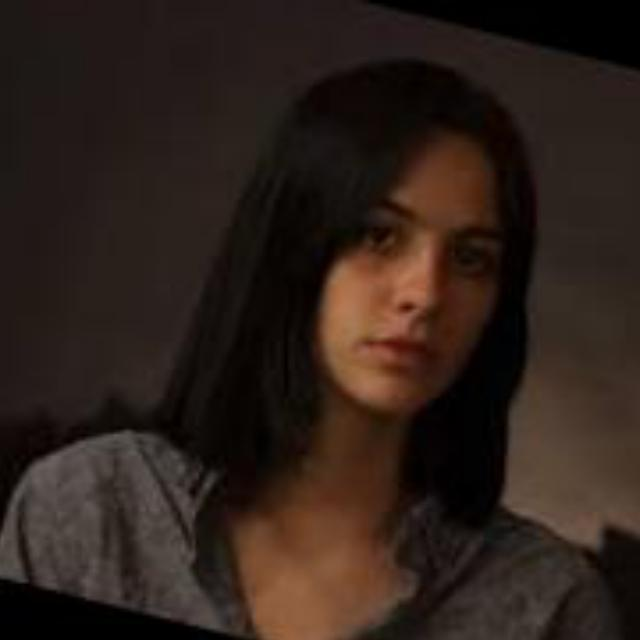Natural: (275, 124, 524, 428)
